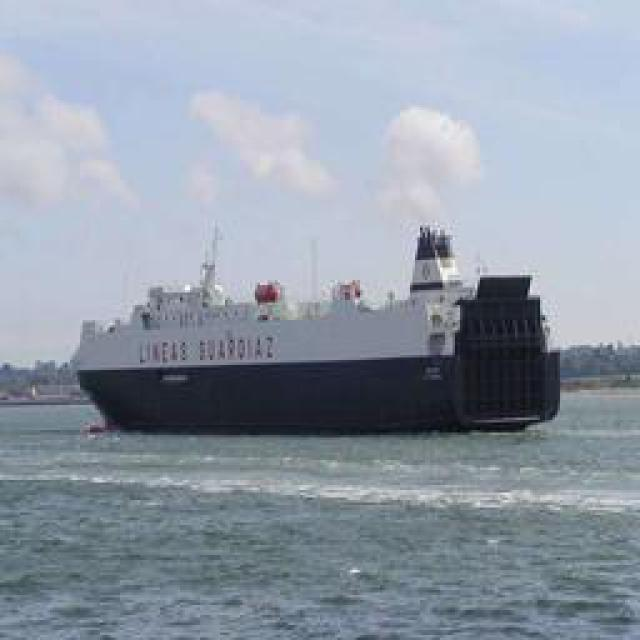Ship: (72, 171, 560, 434)
